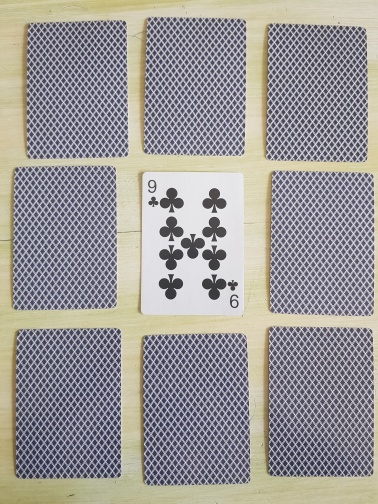nine: (138, 170, 246, 317)
